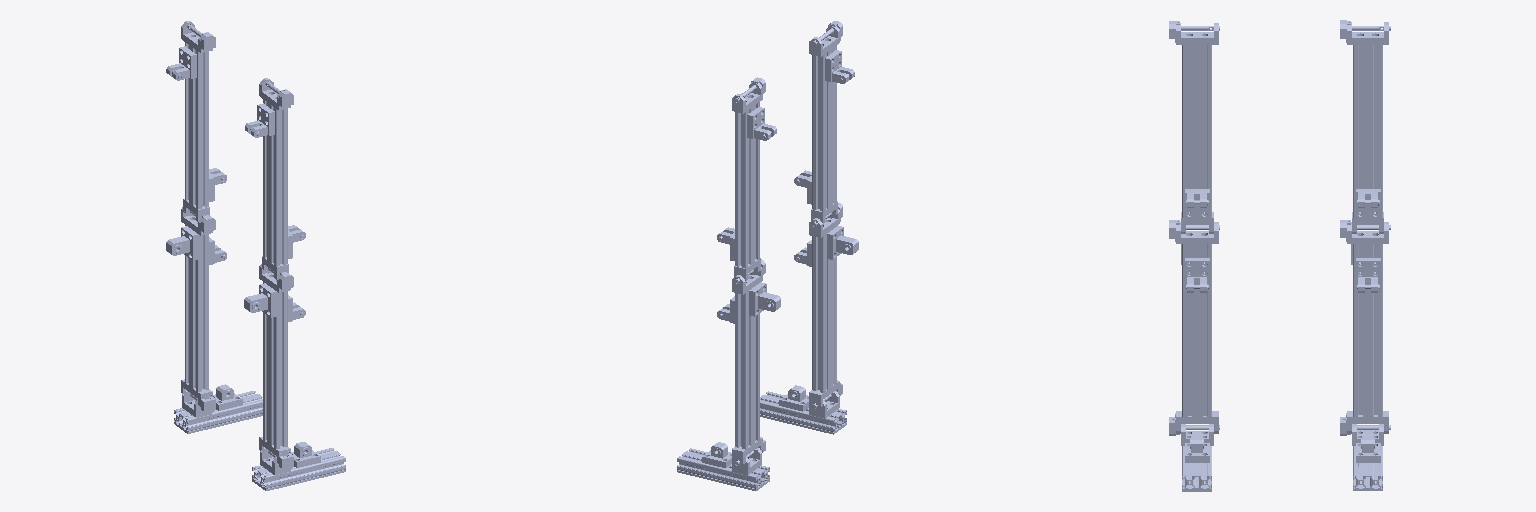
robot.urdf — leg_chuanv3:
<?xml version="1.0" encoding="utf-8"?>
<!-- This URDF was automatically created by SolidWorks to URDF Exporter! Originally created by [author] ([email redacted]) 
     Commit Version: 1.5.1-0-g916b5db  Build Version: 1.5.7152.31018
     For more information, please see http://wiki.ros.org/sw_urdf_exporter -->
<robot name="leg_chuanv3">



  <!--                                             Gazebo                                         -->
  <!-- ros_control plugin -->
  <gazebo>
    <plugin filename="libgazebo_ros_control.so" name="gazebo_ros_control">
      <robotNamespace>/leg_chuanv3</robotNamespace>
    </plugin>
  </gazebo>
  <gazebo>
    <plugin filename="libgazebo_ros_p3d.so" name="ground_truth">
      <frameName>map</frameName>
      <bodyName>base_link</bodyName>
      <topicName>/leg_chuanv3/odom</topicName>
      <updateRate>100.0</updateRate>
    </plugin>
  </gazebo>


  <!-- World -->
  <!--<gazebo reference="world"></gazebo>-->
  <!-- Base -->
  <gazebo reference="world"/>
  <!-- IMU -->
  <!-- <gazebo reference="imu_link"/> -->
  <!-- Body-->
  <gazebo reference="base_link">
    <mu1>0.2</mu1>
    <mu2>0.2</mu2>
    <!-- <material>Gazebo/Red</material> -->
    <selfCollide>false</selfCollide>
  </gazebo>



  <gazebo reference="llink1">
    <mu1>0.2</mu1>
    <mu2>0.2</mu2>
    <!-- <material>Gazebo/Red</material> -->
    <selfCollide>false</selfCollide>
  </gazebo>

  <gazebo reference="llink2">
    <kp>100000.0</kp>
    <kd>100.0</kd>
    <mu1>1.5</mu1>
    <mu2>1.5</mu2>
    <fdir1>1 0 0</fdir1>
    <maxVel>1.0</maxVel>
    <minDepth>0.001</minDepth>
  </gazebo>


  <gazebo reference="llink3">
    <mu1>0.2</mu1>
    <mu2>0.2</mu2>
    <!-- <material>Gazebo/Grey</material> -->
    <selfCollide>false</selfCollide>
  </gazebo>


  <gazebo reference="rlink1">
    <mu1>0.2</mu1>
    <mu2>0.2</mu2>
    <!-- <material>Gazebo/Grey</material> -->
    <selfCollide>false</selfCollide>
  </gazebo>


  <gazebo reference="rlink2">
    <kp>100000.0</kp>
    <kd>100.0</kd>
    <mu1>1.5</mu1>
    <mu2>1.5</mu2>
    <fdir1>1 0 0</fdir1>
    <maxVel>1.0</maxVel>
    <minDepth>0.0001</minDepth>
  </gazebo>

  <gazebo reference="rlink3">
    <mu1>0.2</mu1>
    <mu2>0.2</mu2>
    <!-- <material>Gazebo/Grey</material> -->
    <selfCollide>false</selfCollide>
  </gazebo>







  <link name="world"></link>

  <joint name="joint_origin" type="fixed">
    <parent link="world"/>
    <child link="base_link"/>
    <origin xyz="0.0 0.0 0" rpy="0.0 0.0 3.142"/>
  </joint>



  <link name="base_link">
    <inertial>
      <origin xyz="-0.0014321 0.00041851 0.040306" rpy="0 0 0" />
      <mass value="2.4018" />
      <inertia ixx="0.009591" ixy="1.9337E-07" ixz="-1.2072E-07" iyy="0.0070769" iyz="-2.7325E-07" izz="0.015485" />
    </inertial>
    <visual>
      <origin xyz="0 0 0" rpy="0 0 0" />
      <geometry>
        <mesh filename="package://leg_description/meshes/base_link.STL" scale="1 1 1" />
      </geometry>
      <material name="">
        <color rgba="0.79216 0.81961 0.93333 1" />
      </material>
    </visual>
    <collision>
      <origin xyz="0 0 0" rpy="0 0 0" />
      <geometry>
        <mesh filename="package://leg_description/meshes/base_link.STL" scale="1 1 1" />
      </geometry>
    </collision>
  </link>


  <link name="llink1">
    <inertial>
      <origin xyz="0.21548 -0.0030993 0.0013257" rpy="0 0 0" />
      <mass value="0.43137" />
      <inertia ixx="0.00020436" ixy="-9.8E-06" ixz="1.5473E-07" iyy="0.0027266" iyz="5.4625E-08" izz="0.0026126" />
    </inertial>
    <visual>
      <origin xyz="0 0 0" rpy="0 0 0" />
      <geometry>
        <mesh filename="package://leg_description/meshes/llink1.STL" scale="1 1 1" />
      </geometry>
      <material name="">
        <color rgba="0.79216 0.81961 0.93333 1" />
      </material>
    </visual>
    <collision>
      <origin xyz="0 0 0" rpy="0 0 0" />
      <geometry>
        <mesh filename="package://leg_description/meshes/llink1.STL" scale="1 1 1" />
      </geometry>
    </collision>
  </link>


  <joint name="ljoint1" type="revolute">
    <origin xyz="-0.0436 -0.17124 -0.06" rpy="1.5708 1.5708 0" />
    <parent link="base_link" />
    <child link="llink1" />
    <axis xyz="0 0 1" />
    <limit lower="-0.8726" upper="0.6981" effort="100" velocity="5" />
    <dynamics damping="0.1" friction="0.0"/>
  </joint>
  <transmission name="tran1">
    <type>transmission_interface/SimpleTransmission</type>
    <joint name="ljoint1">
      <hardwareInterface>hardware_interface/EffortJointInterface</hardwareInterface>
    </joint>
    <actuator name="motor1">
      <hardwareInterface>EffortJointInterface</hardwareInterface>
      <mechanicalReduction>1</mechanicalReduction>
    </actuator>
  </transmission>



  <link name="llink2">
    <inertial>
      <origin xyz="0.17796 0.0015786 -0.047904" rpy="0 0 0" />
      <mass value="0.45541" />
      <inertia ixx="0.00023283" ixy="4.9149E-06" ixz="7.2132E-18" iyy="0.0027437" iyz="1.4004E-17" izz="0.002625" />
    </inertial>
    <visual>
      <origin xyz="0 0 0" rpy="0 0 0" />
      <geometry>
        <mesh filename="package://leg_description/meshes/llink2.STL" scale="1 1 1" />
      </geometry>
      <material name="">
        <color rgba="0.79216 0.81961 0.93333 1" />
      </material>
    </visual>
    <collision>
      <origin xyz="0 0 0" rpy="0 0 0" />
      <geometry>
        <mesh filename="package://leg_description/meshes/llink2.STL" scale="1 1 1" />
      </geometry>
    </collision>
  </link>


  <joint name="ljoint2" type="revolute">
    <origin xyz="0.438 -0.0031004 0.047592" rpy="0 0 0" />
    <parent link="llink1" />
    <child link="llink2" />
    <axis xyz="0 0 1" />
    <limit lower="0" upper="1.13446" effort="150" velocity="5" />
    <dynamics damping="0.1" friction="0.0"/>
  </joint>
  <transmission name="ljoint2_tran">
    <type>transmission_interface/SimpleTransmission</type>
    <joint name="ljoint2">
      <hardwareInterface>hardware_interface/EffortJointInterface</hardwareInterface>
    </joint>
    <actuator name="ljoint2_motor">
      <hardwareInterface>EffortJointInterface</hardwareInterface>
      <mechanicalReduction>1</mechanicalReduction>
    </actuator>
  </transmission>


  <link name="llink3">
    <inertial>
      <origin xyz="0.036675 -0.049331 -0.045802" rpy="0 0 0" />
      <mass value="0.29119" />
      <inertia ixx="0.00068435" ixy="-6.0358E-08" ixz="-1.3663E-07" iyy="0.00011606" iyz="9.6683E-08" izz="0.00061049" />
    </inertial>
    <visual>
      <origin xyz="0 0 0" rpy="0 0 0" />
      <geometry>
        <mesh filename="package://leg_description/meshes/llink3.STL" />
      </geometry>
      <material name="">
        <color rgba="0.79216 0.81961 0.93333 1" />
      </material>
    </visual>
    <collision>
      <origin xyz="0 0 0" rpy="0 0 0" />
      <geometry>
        <mesh filename="package://leg_description/meshes/llink3.STL" />
      </geometry>
    </collision>
  </link>


  <joint name="ljoint3" type="revolute">
    <origin xyz="0.44 0 0" rpy="0 0 0" />
    <parent link="llink2" />
    <child link="llink3" />
    <axis xyz="0 0 1" />
    <limit lower="-0.5235" upper="0.69813" effort="200" velocity="5" />
    <dynamics damping="0.1" friction="0.0"/>
  </joint>
  <transmission name="ljoint3_tran">
    <type>transmission_interface/SimpleTransmission</type>
    <joint name="ljoint3">
      <hardwareInterface>hardware_interface/EffortJointInterface</hardwareInterface>
    </joint>
    <actuator name="ljoint3_motor">
      <hardwareInterface>EffortJointInterface</hardwareInterface>
      <mechanicalReduction>1</mechanicalReduction>
    </actuator>
  </transmission>



  <link name="rlink1">
    <inertial>
      <origin xyz="0.21548 -0.0030993 0.0013257" rpy="0 0 0" />
      <mass value="0.43137" />
      <inertia ixx="0.00020436" ixy="-9.8E-06" ixz="1.5473E-07" iyy="0.0027266" iyz="5.4625E-08" izz="0.0026126" />
    </inertial>
    <visual>
      <origin xyz="0 0 0" rpy="0 0 0" />
      <geometry>
        <mesh filename="package://leg_description/meshes/rlink1.STL" scale="1 1 1" />
      </geometry>
      <material name="">
        <color rgba="0.79216 0.81961 0.93333 1" />
      </material>
    </visual>
    <collision>
      <origin xyz="0 0 0" rpy="0 0 0" />
      <geometry>
        <mesh filename="package://leg_description/meshes/rlink1.STL" scale="1 1 1" />
      </geometry>
    </collision>
  </link>


  <joint name="rjoint1" type="revolute">
    <origin xyz="-0.0436 0.16876 -0.06" rpy="1.5708 1.5708 0" />
    <parent link="base_link" />
    <child link="rlink1" />
    <axis xyz="0 0 1" />
    <limit lower="-0.8726" upper="0.6981" effort="100" velocity="5" />
    <dynamics damping="0.1" friction="0.0"/>
  </joint>
  <transmission name="rjoint1_tran">
    <type>transmission_interface/SimpleTransmission</type>
    <joint name="rjoint1">
      <hardwareInterface>hardware_interface/EffortJointInterface</hardwareInterface>
    </joint>
    <actuator name="rjoint1_motor">
      <hardwareInterface>EffortJointInterface</hardwareInterface>
      <mechanicalReduction>1</mechanicalReduction>
    </actuator>
  </transmission>

  <link name="rlink2">
    <inertial>
      <origin xyz="0.17796 0.0015786 -0.047904" rpy="0 0 0" />
      <mass value="0.45541" />
      <inertia ixx="0.00023283" ixy="4.9149E-06" ixz="5.9225E-18" iyy="0.0027437" iyz="1.486E-17" izz="0.002625" />
    </inertial>
    <visual>
      <origin xyz="0 0 0" rpy="0 0 0" />
      <geometry>
        <mesh filename="package://leg_description/meshes/rlink2.STL" scale="1 1 1" />
      </geometry>
      <material name="">
        <color rgba="0.79216 0.81961 0.93333 1" />
      </material>
    </visual>
    <collision>
      <origin xyz="0 0 0" rpy="0 0 0" />
      <geometry>
        <mesh filename="package://leg_description/meshes/rlink2.STL" scale="1 1 1" />
      </geometry>
    </collision>
  </link>

  <joint name="rjoint2" type="revolute">
    <origin xyz="0.438 -0.0031004 0.047592" rpy="0 0 0" />
    <parent link="rlink1" />
    <child link="rlink2" />
    <axis xyz="0 0 1" />
    <limit lower="0" upper="1.13446" effort="150" velocity="5" />
    <dynamics damping="0.1" friction="0.0"/>
  </joint>
  <transmission name="rjoint2_tran">
    <type>transmission_interface/SimpleTransmission</type>
    <joint name="rjoint2">
      <hardwareInterface>hardware_interface/EffortJointInterface</hardwareInterface>
    </joint>
    <actuator name="rjoint2_motor">
      <hardwareInterface>EffortJointInterface</hardwareInterface>
      <mechanicalReduction>1</mechanicalReduction>
    </actuator>
  </transmission>


  <link name="rlink3">
    <inertial>
      <origin xyz="0.036675 -0.049331 -0.045802" rpy="0 0 0" />
      <mass value="0.29119" />
      <inertia ixx="0.00068435" ixy="-6.0358E-08" ixz="-1.3663E-07" iyy="0.00011606" iyz="9.6683E-08" izz="0.00061049" />
    </inertial>
    <visual>
      <origin xyz="0 0 0" rpy="0 0 0" />
      <geometry>
        <mesh filename="package://leg_description/meshes/rlink3.STL" scale="1 1 1" />
      </geometry>
      <material name="">
        <color rgba="0.79216 0.81961 0.93333 1" />
      </material>
    </visual>
    <collision>
      <origin xyz="0 0 0" rpy="0 0 0" />
      <geometry>
        <mesh filename="package://leg_description/meshes/rlink3.STL" scale="1 1 1" />
      </geometry>
    </collision>
  </link>


  <joint name="rjoint3" type="revolute">
    <origin xyz="0.44 0 0" rpy="0 0 0" />
    <parent link="rlink2" />
    <child link="rlink3" />
    <axis xyz="0 0 1" />
    <limit lower="-0.5235" upper="0.69813" effort="200" velocity="5" />
    <dynamics damping="0.1" friction="0.0"/>
  </joint>
  <transmission name="rjoint3_tran">
    <type>transmission_interface/SimpleTransmission</type>
    <joint name="rjoint3">
      <hardwareInterface>hardware_interface/EffortJointInterface</hardwareInterface>
    </joint>
    <actuator name="rjoint3_motor">
      <hardwareInterface>EffortJointInterface</hardwareInterface>
      <mechanicalReduction>1</mechanicalReduction>
    </actuator>
  </transmission>


</robot>

--- What the picture shows (computed from the rendered views, not written in the file) ---
The picture shows the robot from 3 angles, left to right: view 1: azimuth 30°, elevation 25°; view 2: azimuth 150°, elevation 25°; view 3: azimuth 270°, elevation 25°; orthographic projection.
Robot: leg_chuanv3 — 8 links, 7 joints (6 revolute, 1 fixed); root link world; default pose: every joint at zero.
Visible links, largest first — view 1: rlink2, rlink1, llink2, llink1, rlink3, llink3; view 2: rlink1, llink1, rlink2, llink2, llink3, rlink3; view 3: rlink2, llink2, rlink1, llink1, rlink3, llink3.
Boxes of the visible links, x1,y1,x2,y2 form: rlink2: (244,264,305,470); rlink1: (245,78,305,279); llink2: (166,207,226,413); llink1: (166,21,226,221); rlink3: (252,442,345,490); llink3: (174,384,262,433); rlink1: (794,21,854,226); llink1: (717,77,776,283); rlink2: (794,203,858,410); llink2: (717,259,780,466); llink3: (677,442,769,490); rlink3: (760,385,846,434); rlink2: (1169,220,1219,435); llink2: (1340,220,1390,435); rlink1: (1169,21,1219,233); llink1: (1340,20,1390,233); rlink3: (1181,424,1213,491); llink3: (1352,424,1390,490).
Bounding box of the posed robot: 0.2352 × 0.4424 × 0.956 m (x, y, z).
Meshes: 7 distinct files referenced, 6 mesh visuals loaded (6 binary STL); not drawn: 1 (reference not matched to a file when rendering).
